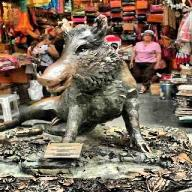boar: (0, 13, 152, 153)
